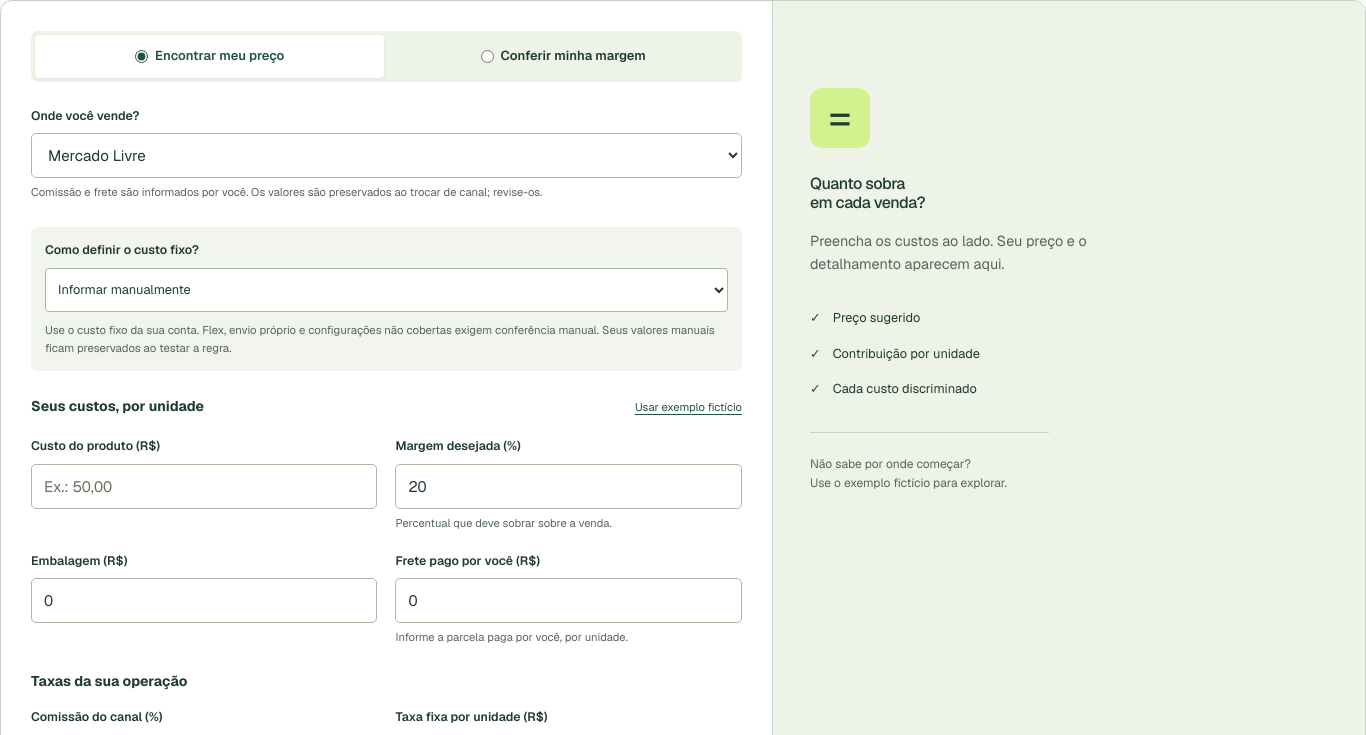
Test: Calculator › switchMode_lowSalePrice_displaysLossAndInvalidatesPrevious
The image size is (1366, 735).
Click the button "Usar exemplo fictício": click(688, 408) [635,395,742,421]
(page scrolled)
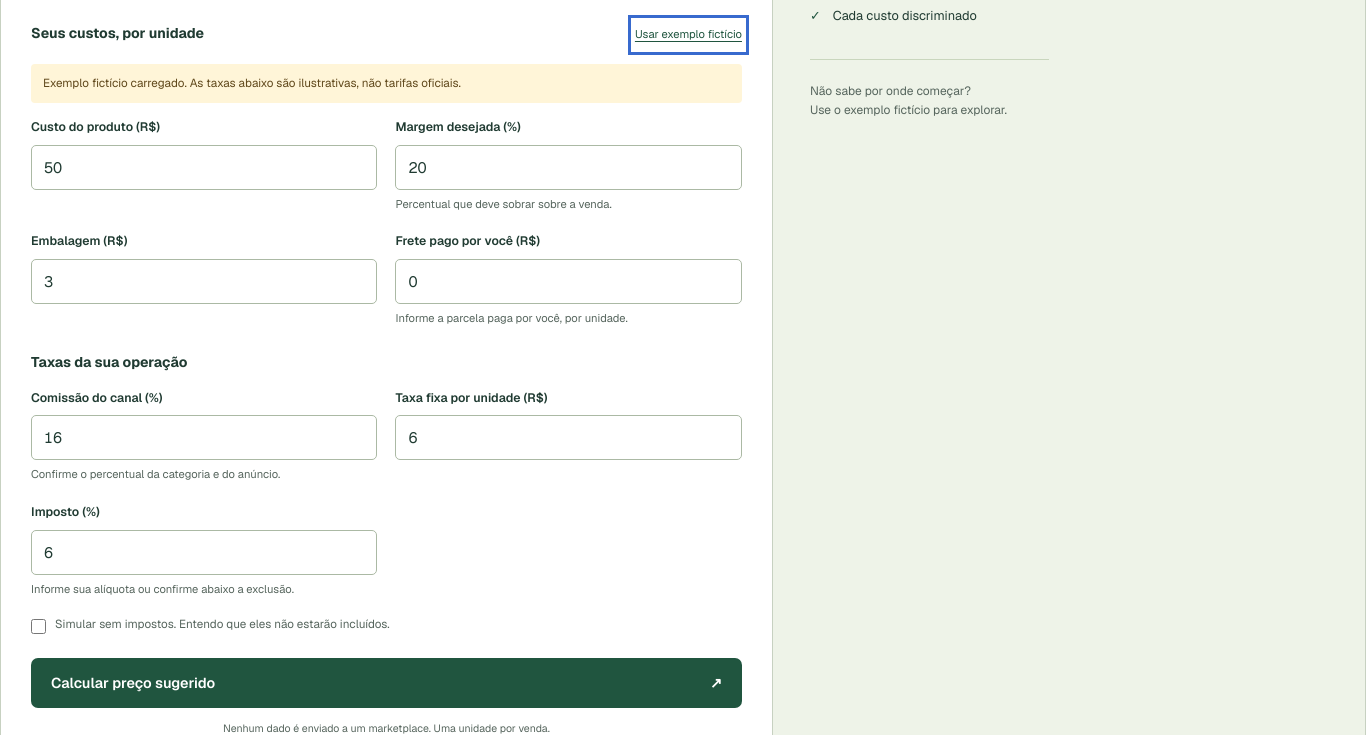
Click the button "Calcular preço sugerido ↗": click(133, 683) [31,658,742,708]
(page scrolled)
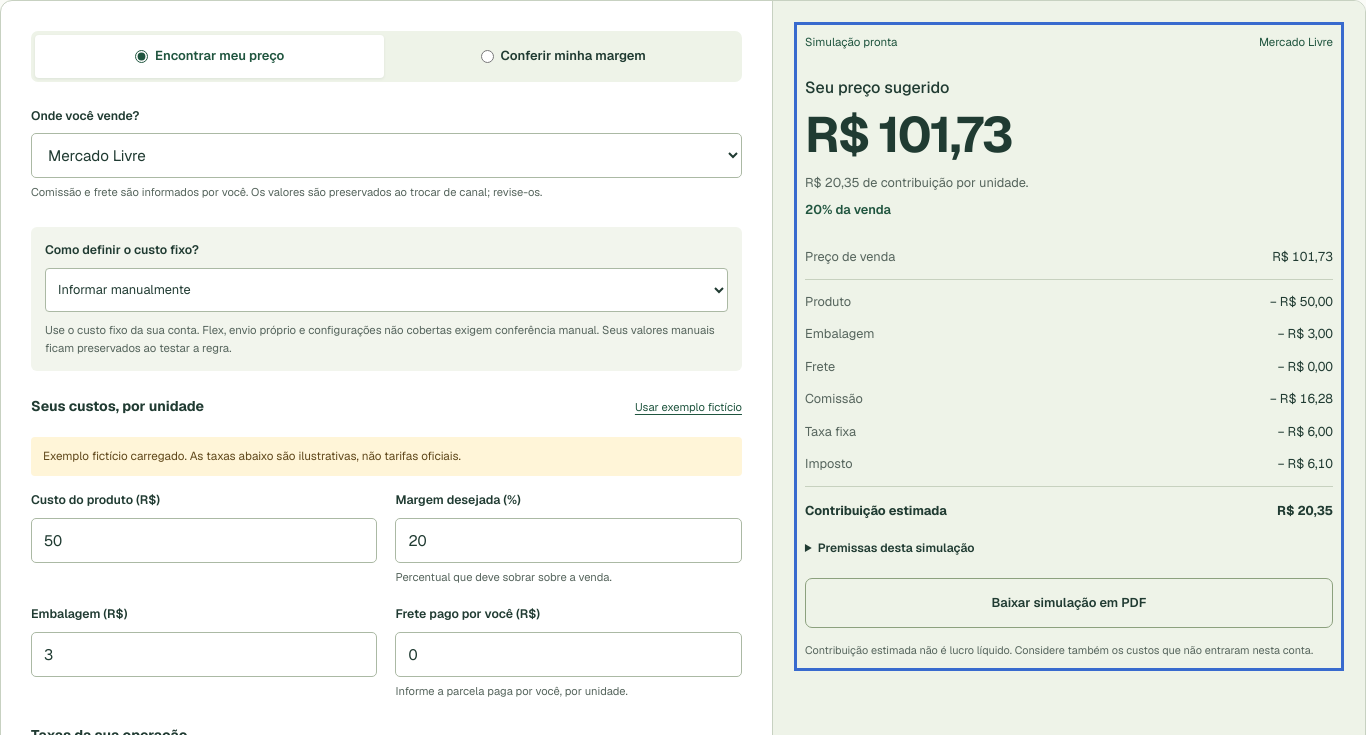
Click the radio button labelled "Conferir minha margem": click(487, 56) [480,50,494,63]
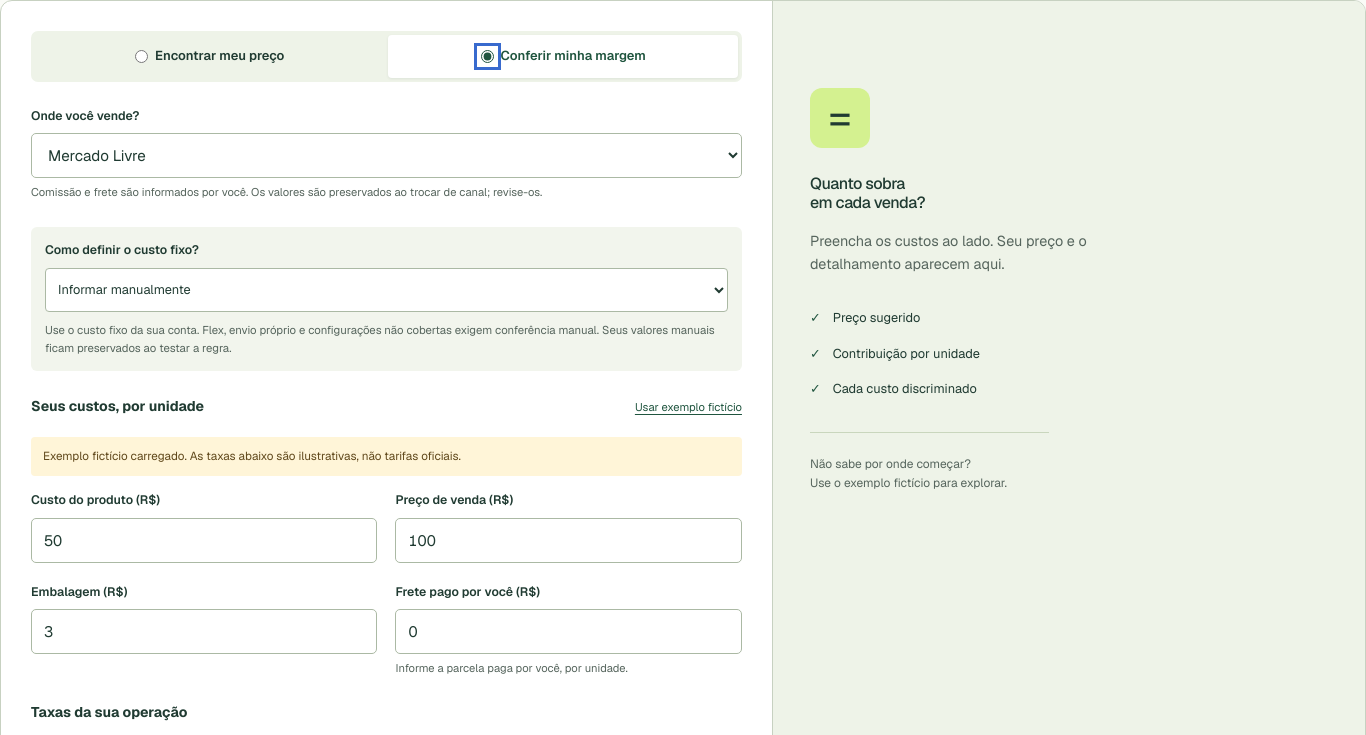
Now the text "Simulação pronta" is gone
Replace the text in the field labelled "Preço de venda (R$)" with "10": (569, 540) [396,518,742,562]
(page scrolled)
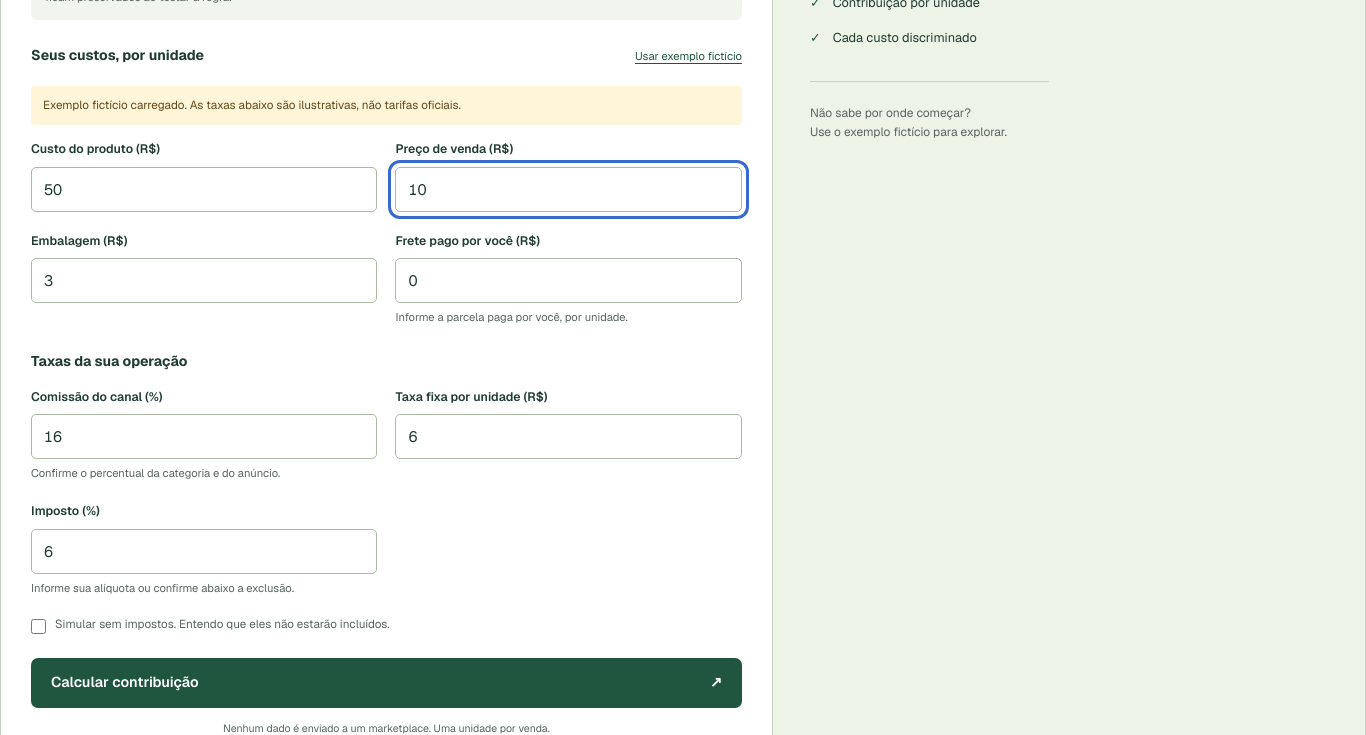
Click the button "Calcular contribuição ↗": click(125, 682) [31,658,742,708]
(page scrolled)
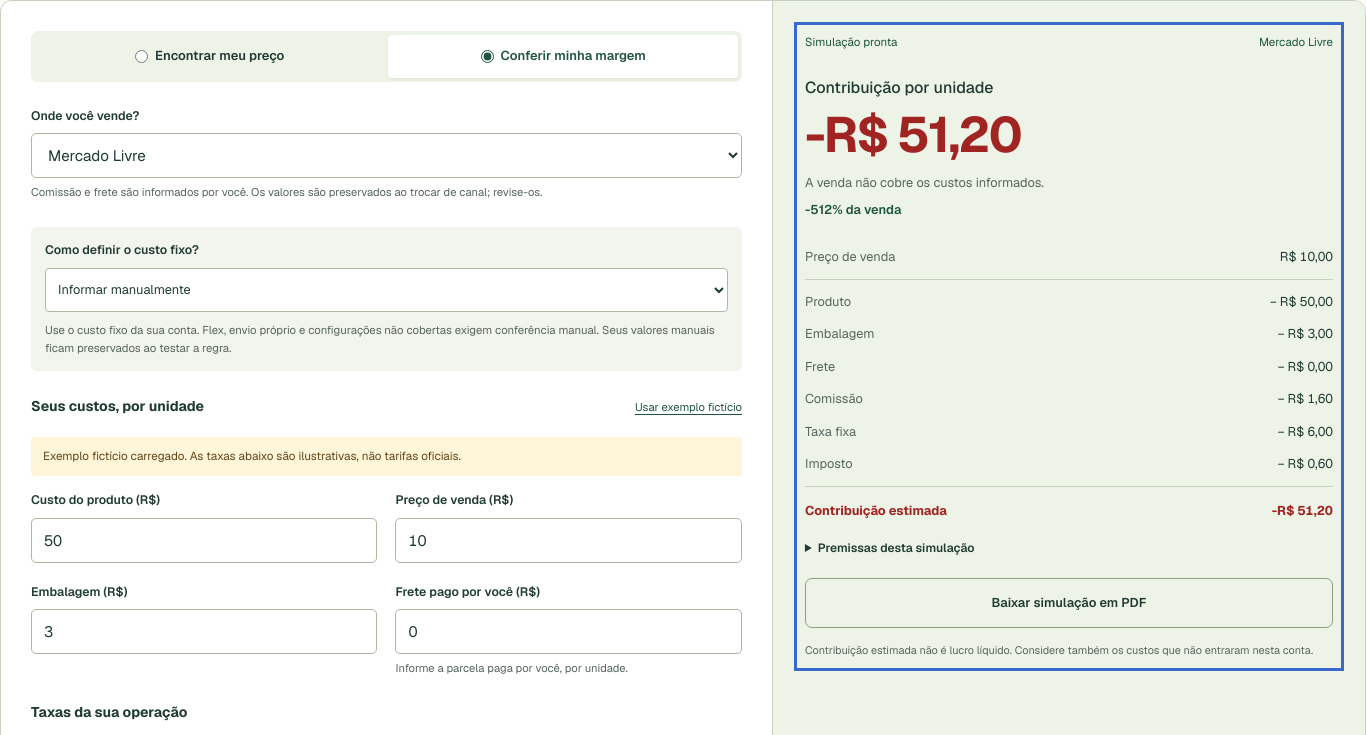
Now the text "A venda não cobre os custos informados. -512% da venda" is shown, box [805,174,1044,218]
Now the heading "Contribuição por unidade" is shown, box [805,77,994,98]
